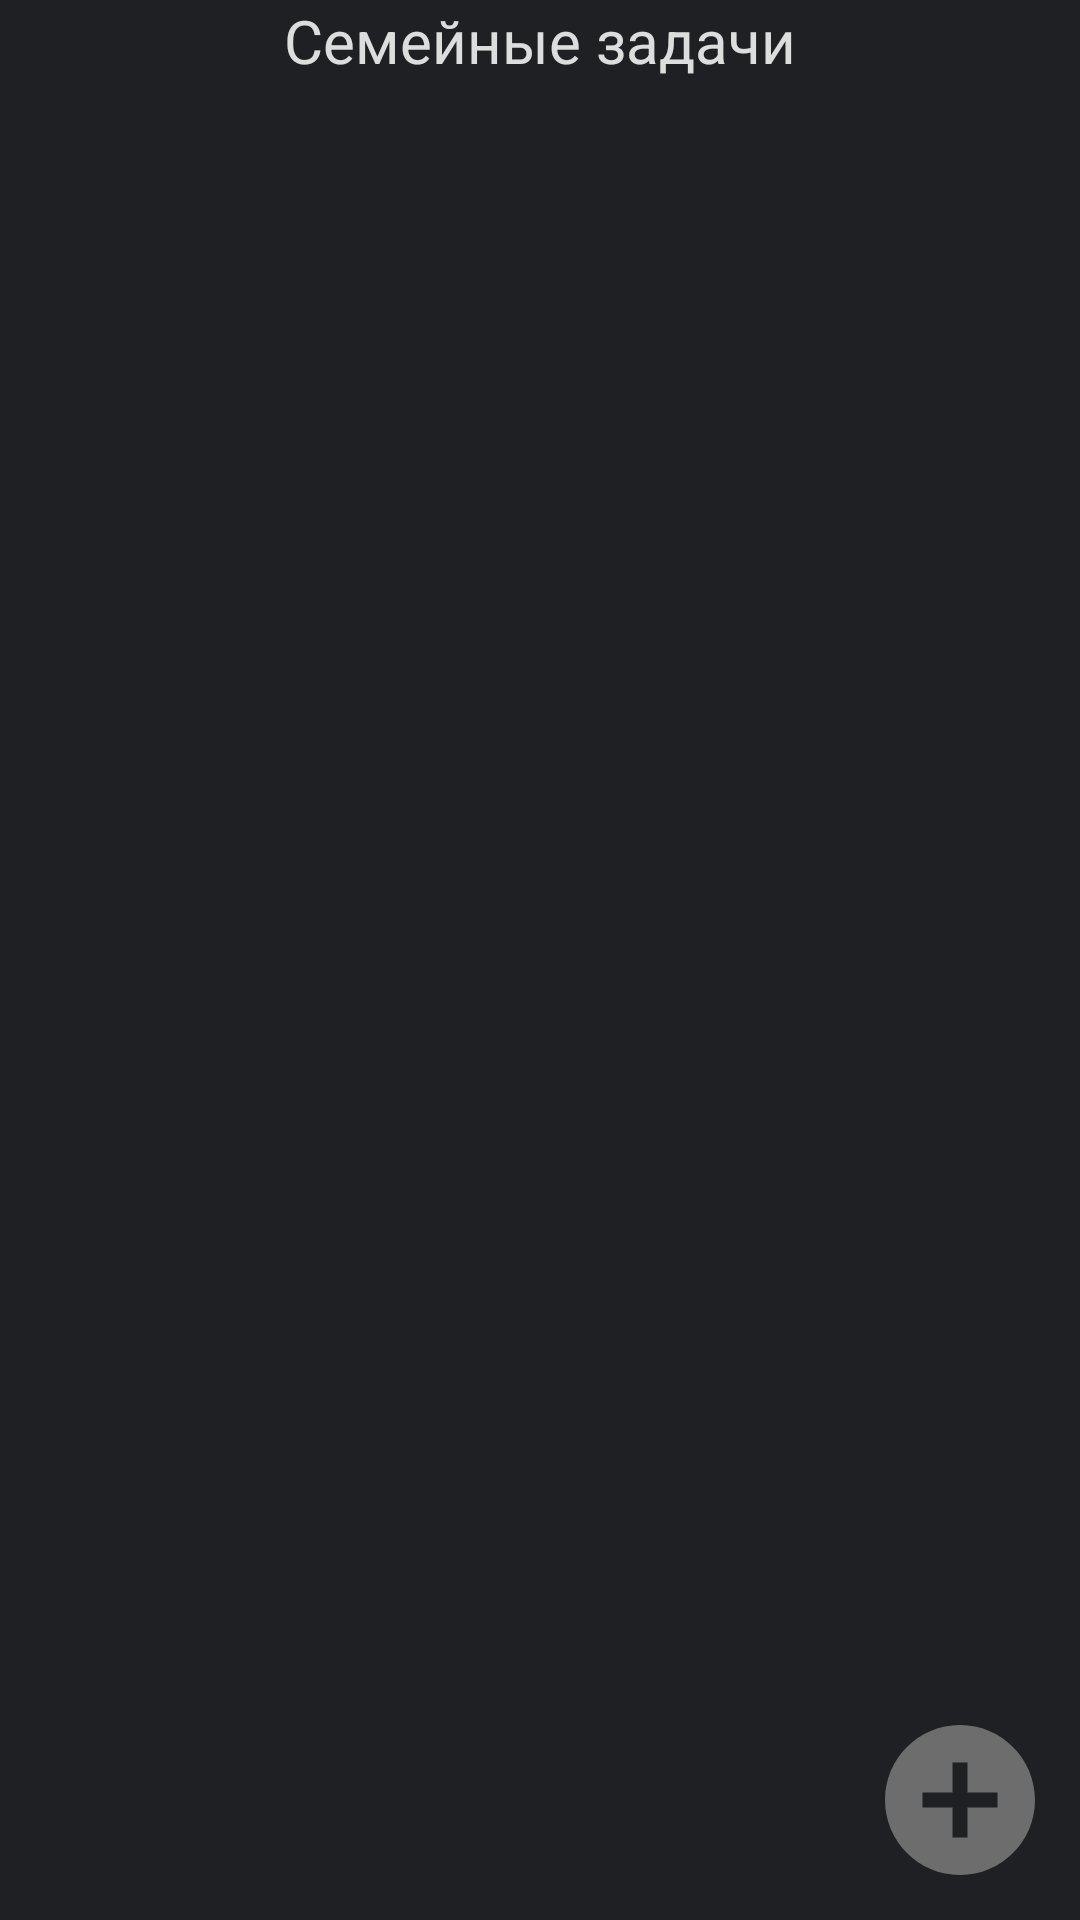

Icon bounding boxes for this 1080*1920 phone screenshot, format (x1, y1, x2, y2):
add: (885, 1725, 1035, 1875)
